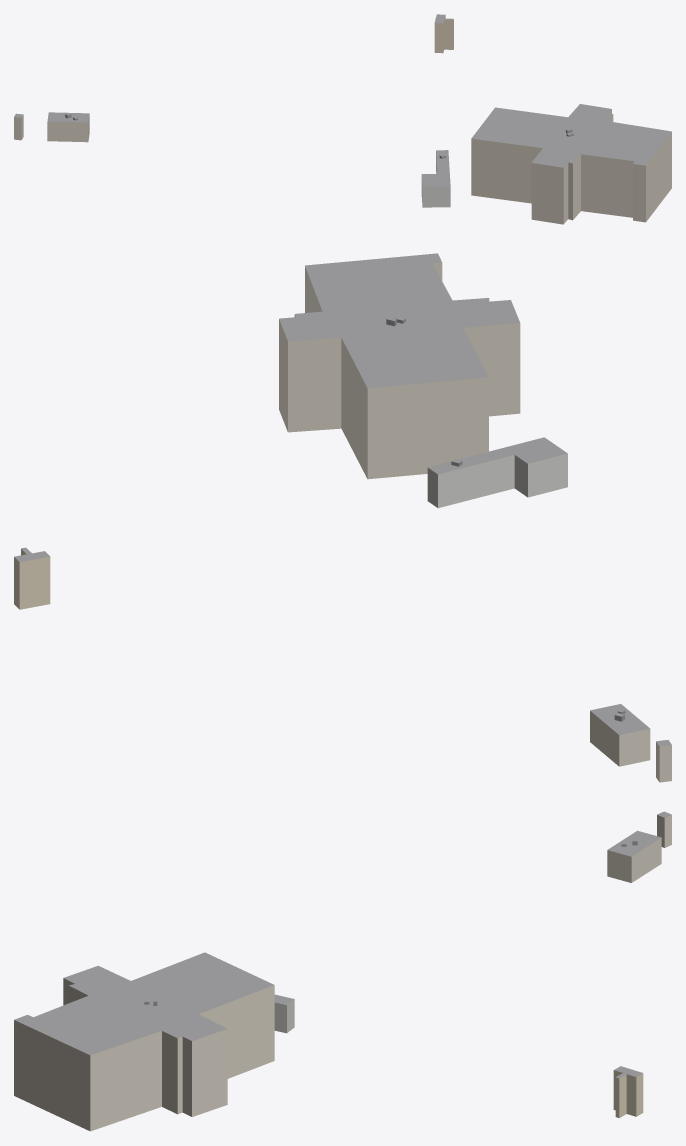
File: building_4_6.glb
The picture shows the model from 3 angles, top to bottom: view 1: azimuth 30°, elevation 25°; view 2: azimuth 150°, elevation 25°; view 3: azimuth 270°, elevation 25°; orthographic projection. The views are drawn at different scales.
Parts seen in each view (by area): view 1: concrete_warm, roof, concrete_light, sandstone; view 2: concrete_warm, roof, concrete_light, sandstone; view 3: concrete_warm, roof, sandstone, concrete_light.
Boxes of the visible parts, <box> form: concrete_warm: <box>14,109,671,224</box>; roof: <box>14,14,671,186</box>; concrete_light: <box>421,151,450,207</box>; sandstone: <box>434,16,453,53</box>; concrete_warm: <box>279,262,671,782</box>; roof: <box>14,253,671,746</box>; concrete_light: <box>427,453,567,508</box>; sandstone: <box>14,549,50,609</box>; concrete_warm: <box>14,815,671,1131</box>; roof: <box>14,811,671,1078</box>; sandstone: <box>613,1070,643,1118</box>; concrete_light: <box>274,999,294,1033</box>.
Size of the model in its own units: 236 by 30.48 by 226.
